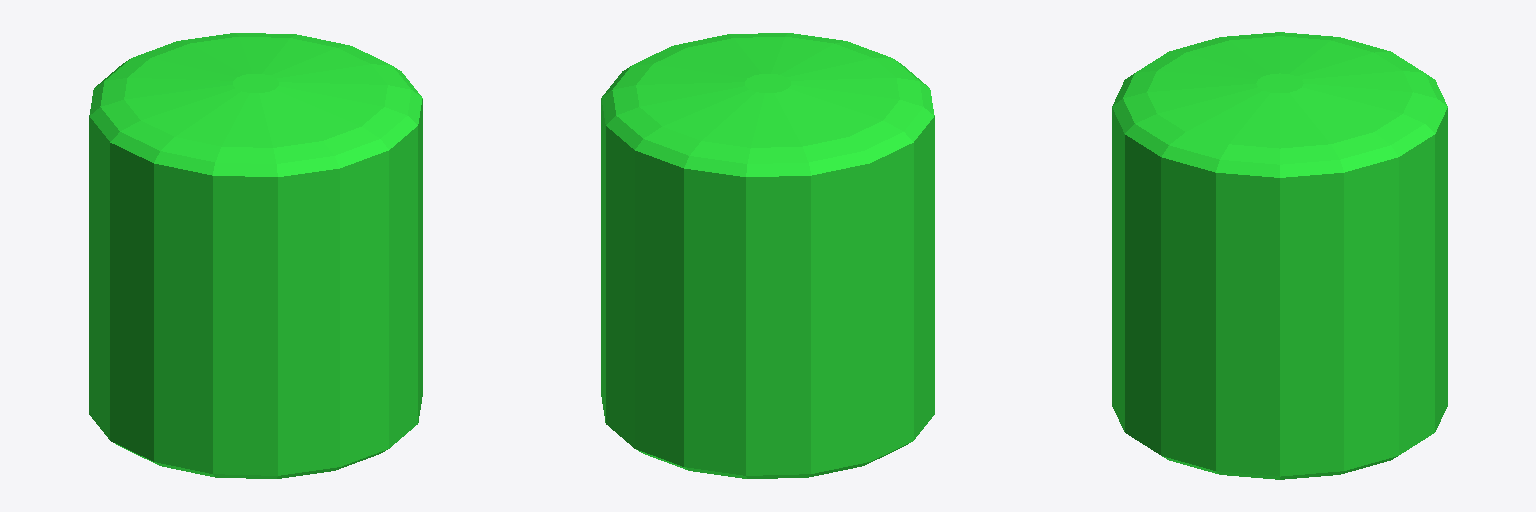
Rendered from cyl3.obj.
3 renders of one model, left to right at view 1: azimuth 30°, elevation 25°; view 2: azimuth 150°, elevation 25°; view 3: azimuth 270°, elevation 25°, orthographic.
Visible parts, largest first — view 1: cylinder1; view 2: cylinder1; view 3: cylinder1.
Part boxes in pixels (bbox=[...]): cylinder1: bbox=[89, 33, 422, 478]; cylinder1: bbox=[601, 33, 934, 478]; cylinder1: bbox=[1112, 32, 1447, 479].
Bounding box in the file's own units: 2 × 2.27 × 2.